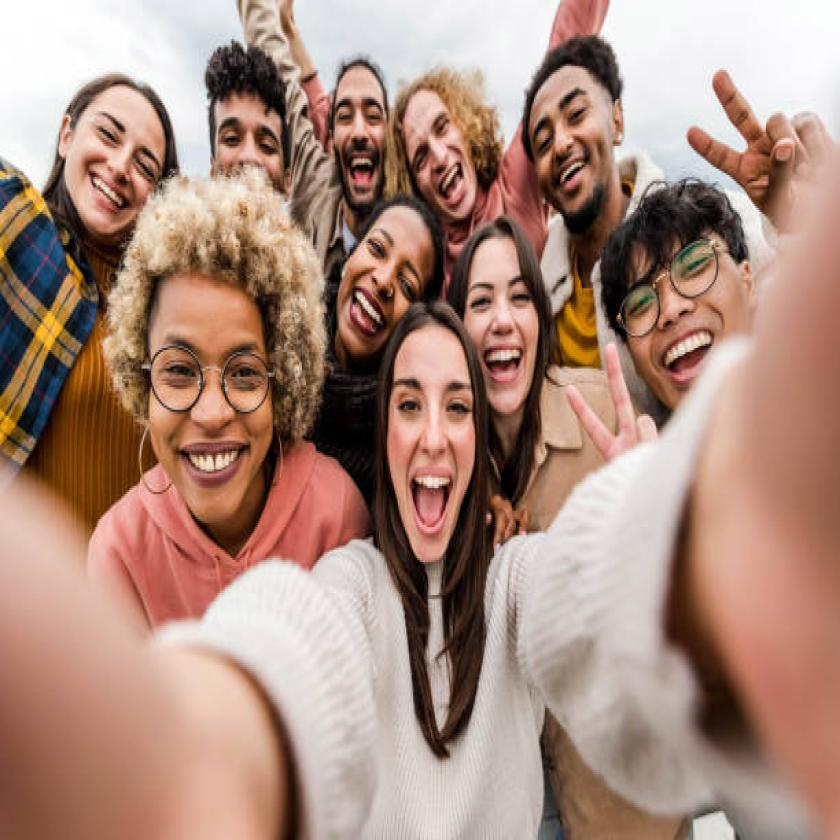Sin_casco: (110, 184, 324, 522), (604, 174, 743, 427), (377, 300, 482, 580), (44, 70, 174, 238), (518, 41, 625, 237), (449, 220, 553, 410), (336, 195, 436, 365), (389, 75, 501, 225), (195, 38, 288, 199), (328, 58, 395, 208)
